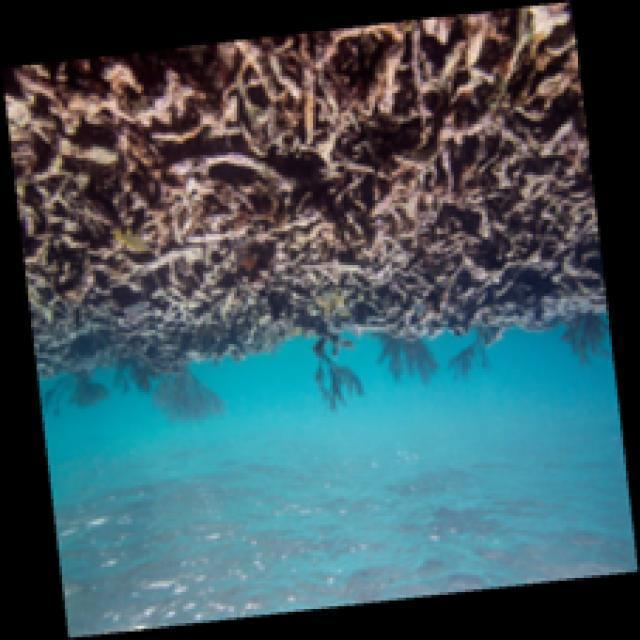Dead Coral: (355, 39, 602, 296), (252, 67, 501, 311), (19, 68, 253, 282)
